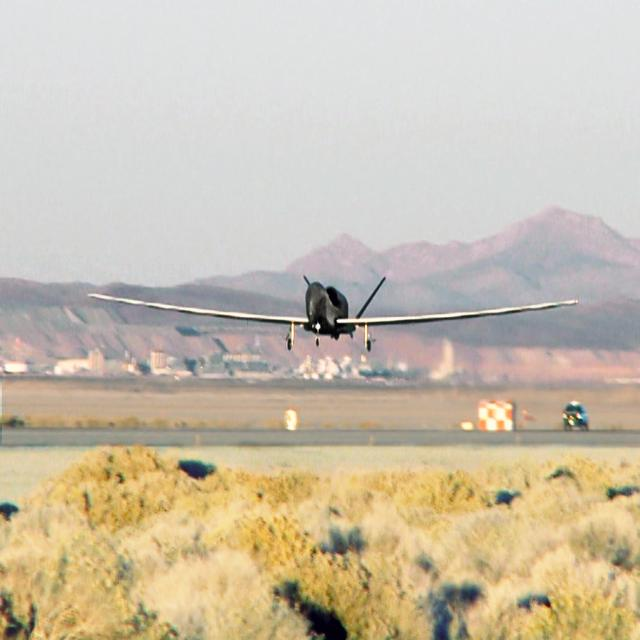MIL_Plane: (85, 275, 578, 352)
